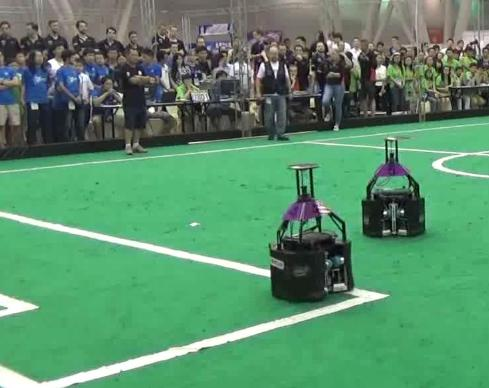robot: (265, 160, 363, 305), (354, 133, 434, 241)
